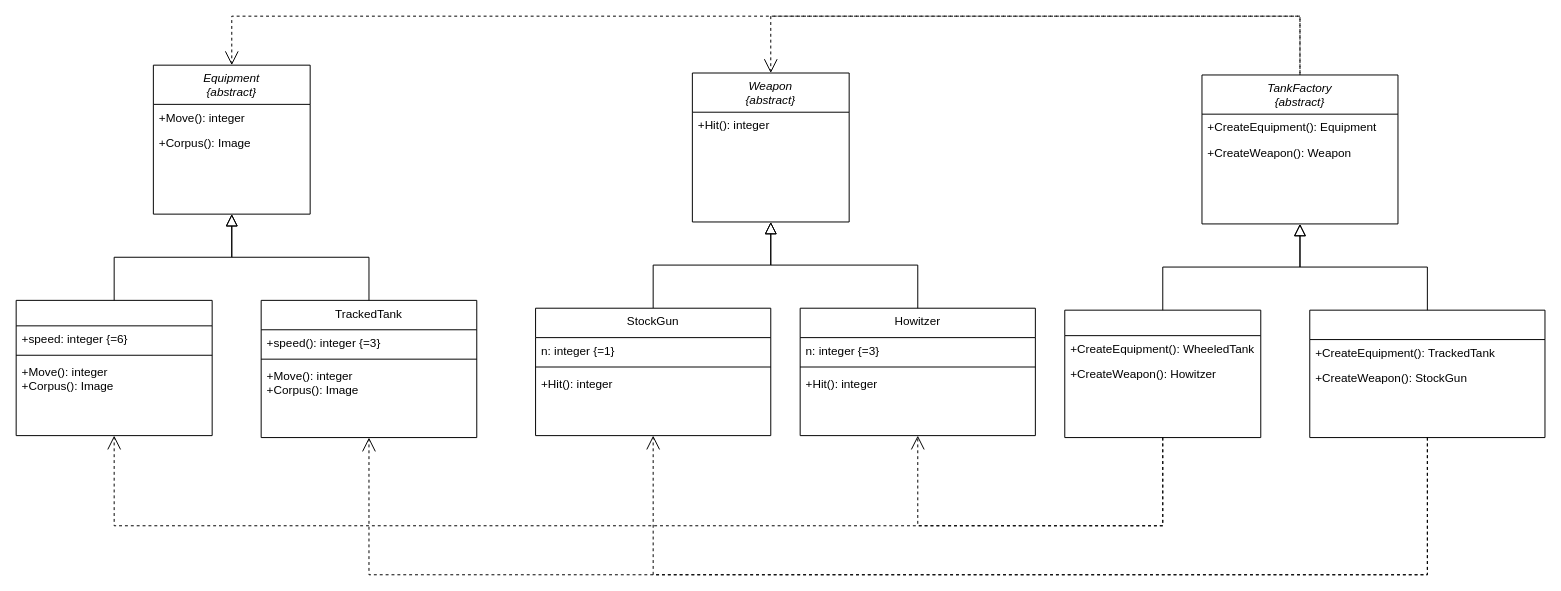
The diagram is 1561 pixels wide and 591 high, and some of its shapes have lost their labels. The box of each missing label's shape, as (x1, y1, x2, y2) in pixels:
TrackedTankFactory: (1309, 309, 1545, 438)
WheeledTank: (15, 299, 212, 436)
WheeledTankFactory: (1064, 309, 1261, 438)
